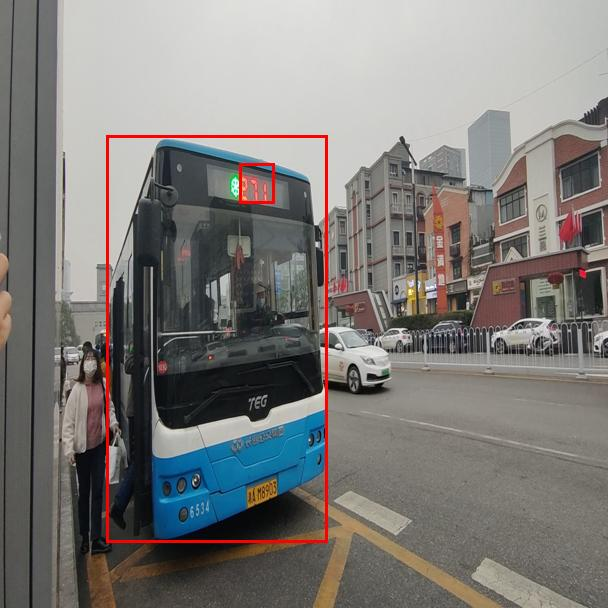bus: (106, 135, 327, 542)
screen: (239, 163, 274, 203)
